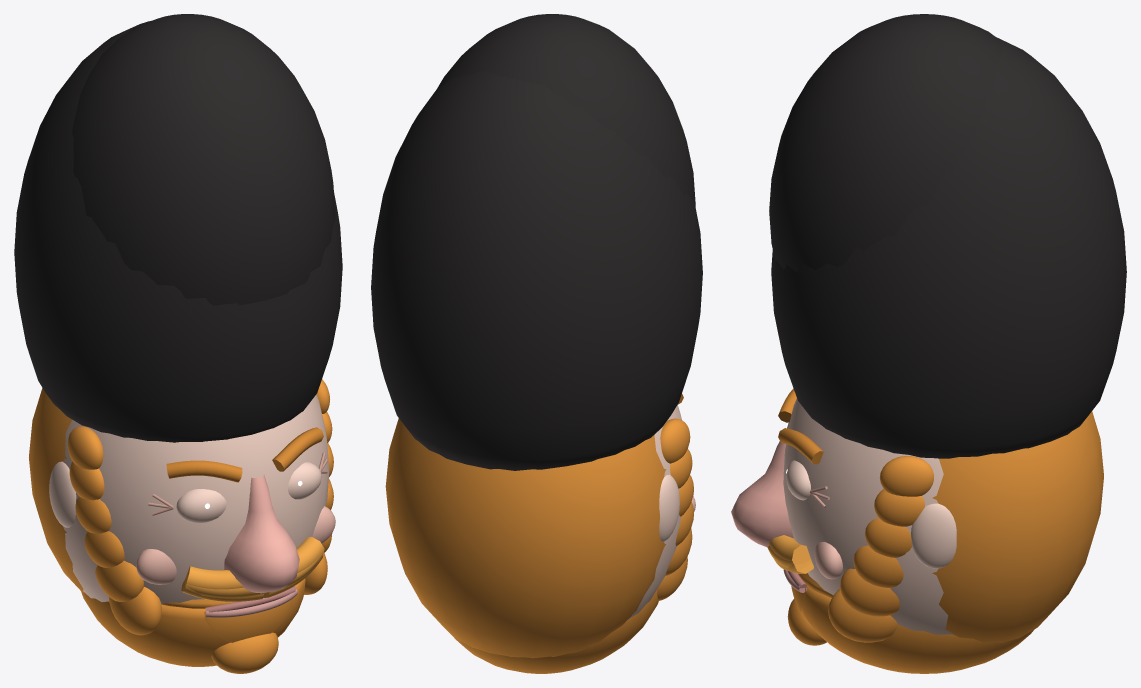
The model's file is sergeant_knolle_teile.glb.
The picture shows the model from 3 angles, left to right: view 1: azimuth 30°, elevation 25°; view 2: azimuth 150°, elevation 25°; view 3: azimuth 270°, elevation 25°; orthographic projection.
Parts seen in each view (by area): view 1: fell.001, fell, kopf_rund, unterkiefer, nase, haar_kurz, kinn, bart, lippenhaut, backenbart, backenbart.001, ohr (+14 smaller); view 2: fell, haar_kurz, fell.001, unterkiefer, kopf_rund, ohr, backenbart.005, backenbart, backenbart.004, backenbart.001; view 3: fell, fell.001, haar_kurz, kopf_rund, unterkiefer, nase, ohr.001, backenbart.006, backenbart.011, backenbart.007, backenbart.008, backenbart.009 (+6 smaller).
Part boxes in pixels (x1,y1,x2,y2): fell.001: [72, 14, 335, 305]; fell: [14, 21, 342, 442]; kopf_rund: [63, 394, 329, 603]; unterkiefer: [81, 578, 305, 666]; nase: [224, 475, 299, 593]; haar_kurz: [29, 388, 83, 592]; kinn: [211, 632, 278, 673]; bart: [181, 566, 265, 601]; lippenhaut: [204, 598, 292, 642]; backenbart: [109, 587, 161, 635]; backenbart.001: [95, 560, 143, 601]; ohr: [49, 461, 76, 527]; fell: [371, 71, 702, 470]; haar_kurz: [385, 418, 665, 658]; fell.001: [437, 14, 695, 206]; unterkiefer: [454, 589, 658, 673]; kopf_rund: [628, 405, 681, 619]; ohr: [659, 474, 679, 541]; backenbart.005: [660, 418, 690, 463]; backenbart: [657, 556, 687, 600]; backenbart.004: [670, 449, 692, 488]; backenbart.001: [665, 528, 692, 575]; fell: [771, 37, 1126, 458]; fell.001: [769, 14, 1001, 272]; haar_kurz: [932, 411, 1103, 642]; kopf_rund: [783, 398, 953, 634]; unterkiefer: [801, 586, 1034, 673]; nase: [731, 441, 793, 547]; ohr.001: [911, 503, 956, 568]; backenbart.006: [828, 589, 897, 642]; backenbart.011: [879, 456, 933, 496]; backenbart.007: [840, 568, 899, 616]; backenbart.008: [853, 545, 903, 587]; backenbart.009: [865, 518, 911, 557].
Bounding box in the file's own units: 0.316 × 0.681 × 0.3828.
